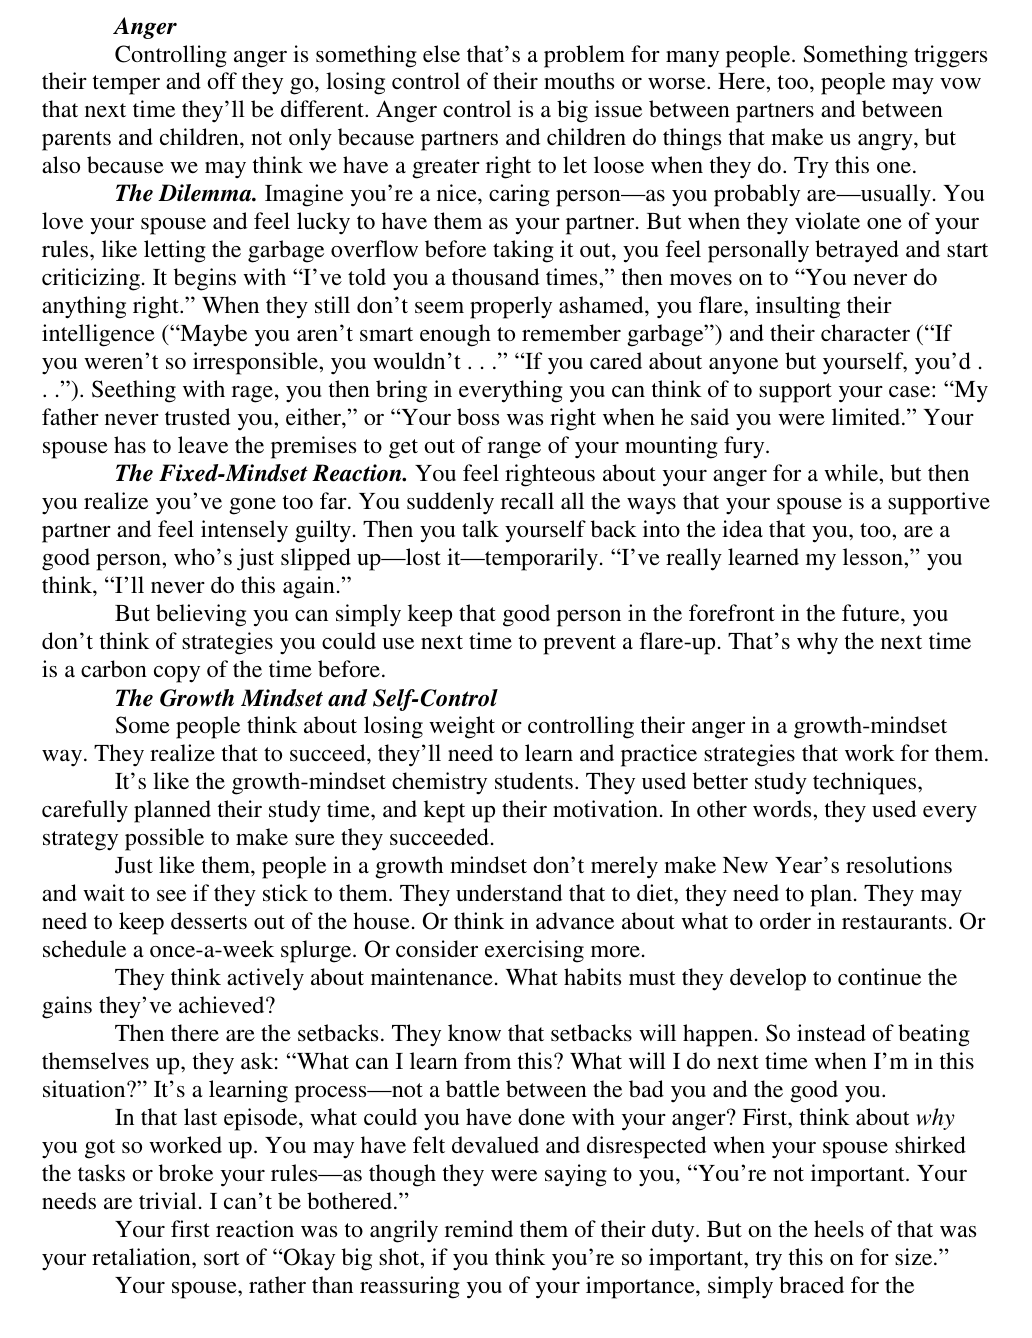latin: (29, 685, 991, 1018), (34, 1021, 978, 1302), (31, 183, 989, 460), (36, 460, 988, 685), (38, 14, 989, 182)
